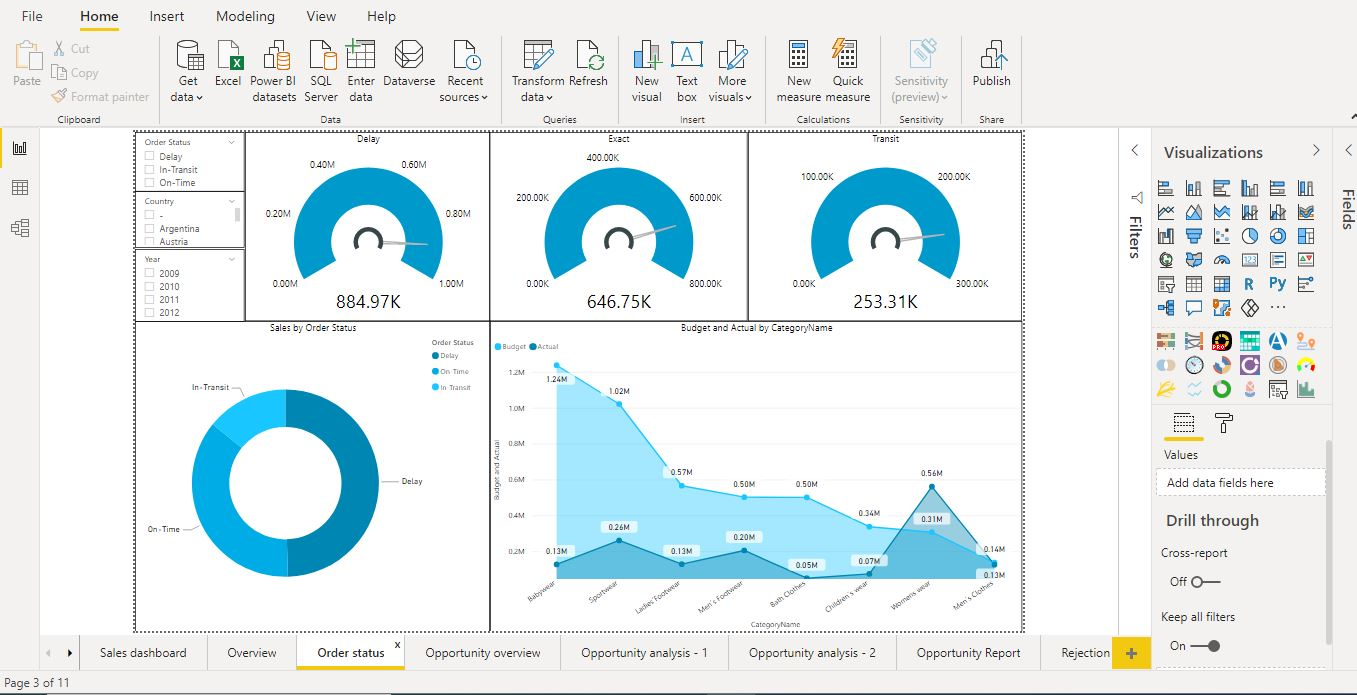

This screenshot's page, from the dashboard's own definition file:
{"tool":"powerbi","page":{"name":"Order status","canvas":[1280,720],"ordinal":2},"visuals":[{"type":"slicer","fields":{"Values":["Sales.Country"]},"box":[0,85.8,158.2,82.4],"z":0},{"type":"slicer","fields":{"Values":["Sales.Year"]},"box":[0,168.2,158.2,104.7],"z":1000},{"type":"slicer","fields":{"Values":["Sales.Order Status"]},"box":[0,0,157.8,86.2],"z":2000},{"type":"donutChart","fields":{"Category":["Sales.Order Status"],"Y":["Sum(Sales.Sales)"]},"box":[0,272.1,512.3,448.5],"z":3000},{"type":"Tachometer1474636471549","fields":{"Y":["Opportunity.Delay"]},"box":[158.2,0,354.3,272.9],"z":4000},{"type":"Tachometer1474636471549","fields":{"Y":["Opportunity.Exact"]},"box":[511.4,0,372.6,273.2],"z":5000},{"type":"Tachometer1474636471549","fields":{"Y":["Opportunity.Transit"]},"box":[884.5,0,395.5,272.9],"z":6000},{"type":"lineStackedColumnComboChart","fields":{"Category":["Sales.CategoryName"],"Y2":["Sum(Sales.Budget)","Opportunity.Actual"]},"box":[512.3,272.1,767.7,448.5],"z":7000}]}

Visuals, with their boxes on the page's 1280x720 design canvas (x1, y1, x2, y2). These are canvas units, not pixel positions in the 1357x695 screenshot, which may show the page scaled, cropped or inside an application window:
slicer - Sales.Country: (0, 86, 158, 168)
slicer - Sales.Year: (0, 168, 158, 273)
slicer - Sales.Order Status: (0, 0, 158, 86)
donutChart - Sales.Order Status x Sum(Sales.Sales): (0, 272, 512, 721)
Tachometer1474636471549 - Opportunity.Delay: (158, 0, 512, 273)
Tachometer1474636471549 - Opportunity.Exact: (511, 0, 884, 273)
Tachometer1474636471549 - Opportunity.Transit: (884, 0, 1280, 273)
lineStackedColumnComboChart - Sales.CategoryName x Sum(Sales.Budget): (512, 272, 1280, 721)
